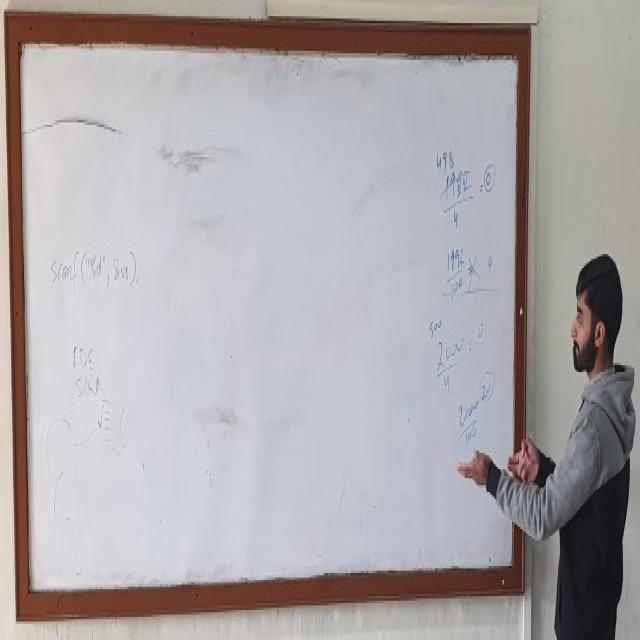Instructor: (545, 231, 633, 640)
White-board: (15, 23, 522, 606)
